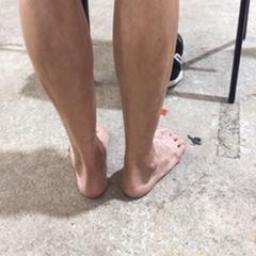Back View -Both Feet-: (52, 106, 188, 209)
